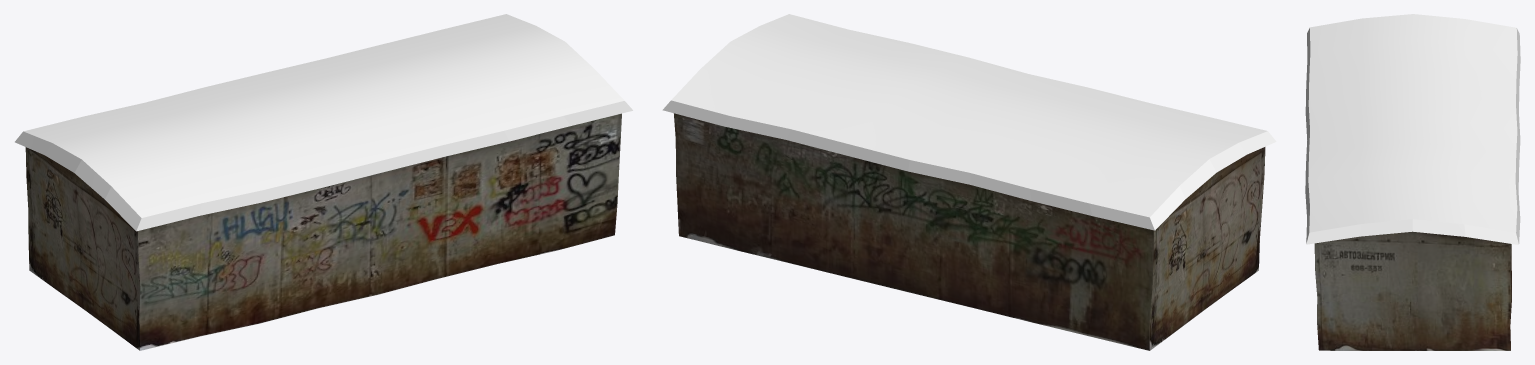
File: garage_shell_graffiti.glb
3 renders of one model, left to right at view 1: azimuth 30°, elevation 25°; view 2: azimuth 150°, elevation 25°; view 3: azimuth 270°, elevation 25°, orthographic. The views are drawn at different scales.
Visible parts, largest first — view 1: garage_shell_graffiti; view 2: garage_shell_graffiti; view 3: garage_shell_graffiti.
Boxes of the visible parts, x1,y1,x2,y2 form: garage_shell_graffiti: (15, 14, 632, 350); garage_shell_graffiti: (662, 14, 1276, 350); garage_shell_graffiti: (1305, 14, 1520, 350).
Bounding box in the file's own units: 6.3 × 1.87 × 2.71.
1 material, 1 textured.
